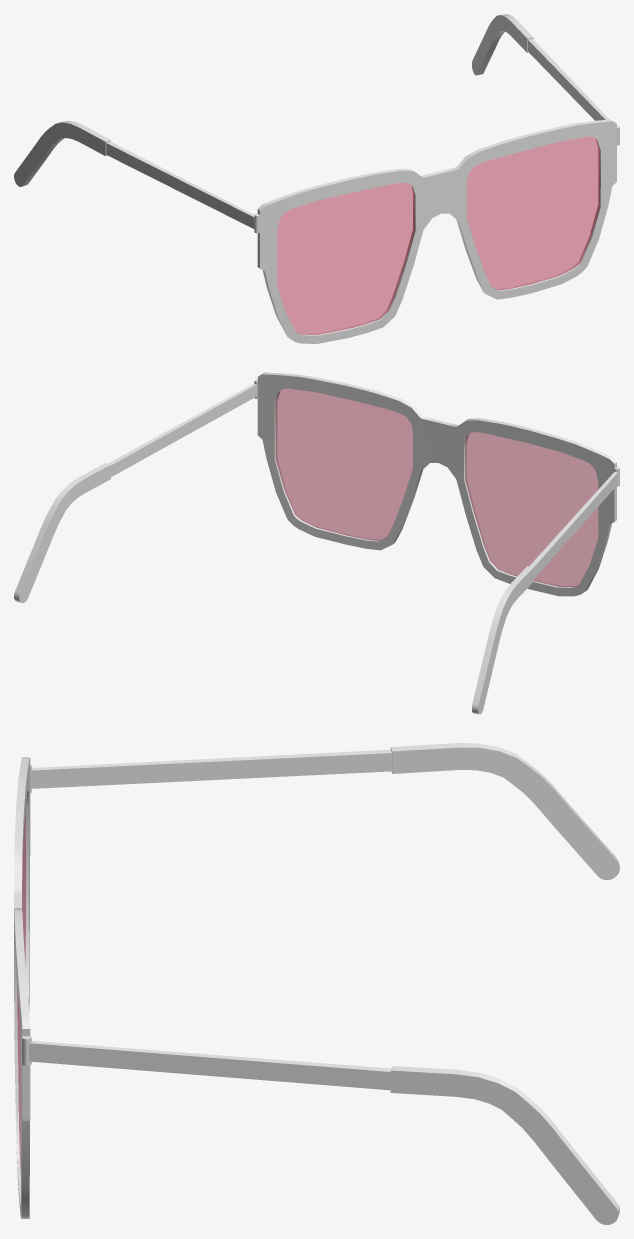
The picture shows the model from 3 angles, top to bottom: view 1: azimuth 30°, elevation 25°; view 2: azimuth 150°, elevation 25°; view 3: azimuth 270°, elevation 25°; orthographic projection. The views are drawn at different scales.
Parts seen in each view (by area): view 1: Lens, Material.033; view 2: Lens, Material.033; view 3: Material.033, Lens.
Boxes of the visible parts, x1,y1,x2,y2 form: Lens: (277, 136, 599, 334); Material.033: (14, 14, 619, 343); Lens: (275, 388, 598, 586); Material.033: (14, 372, 619, 714); Material.033: (14, 743, 619, 1224); Lens: (17, 809, 25, 1174).
Bounding box in the file's own units: 2.28 × 0.7419 × 1.66.
